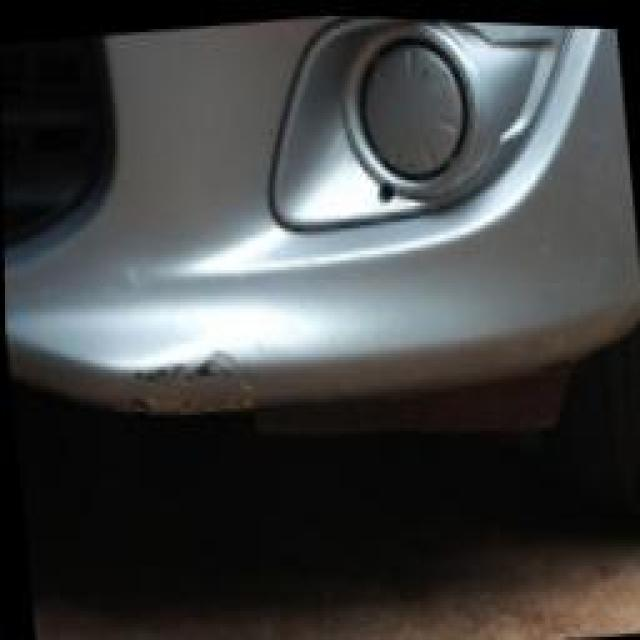Bumper: (108, 312, 274, 431)
